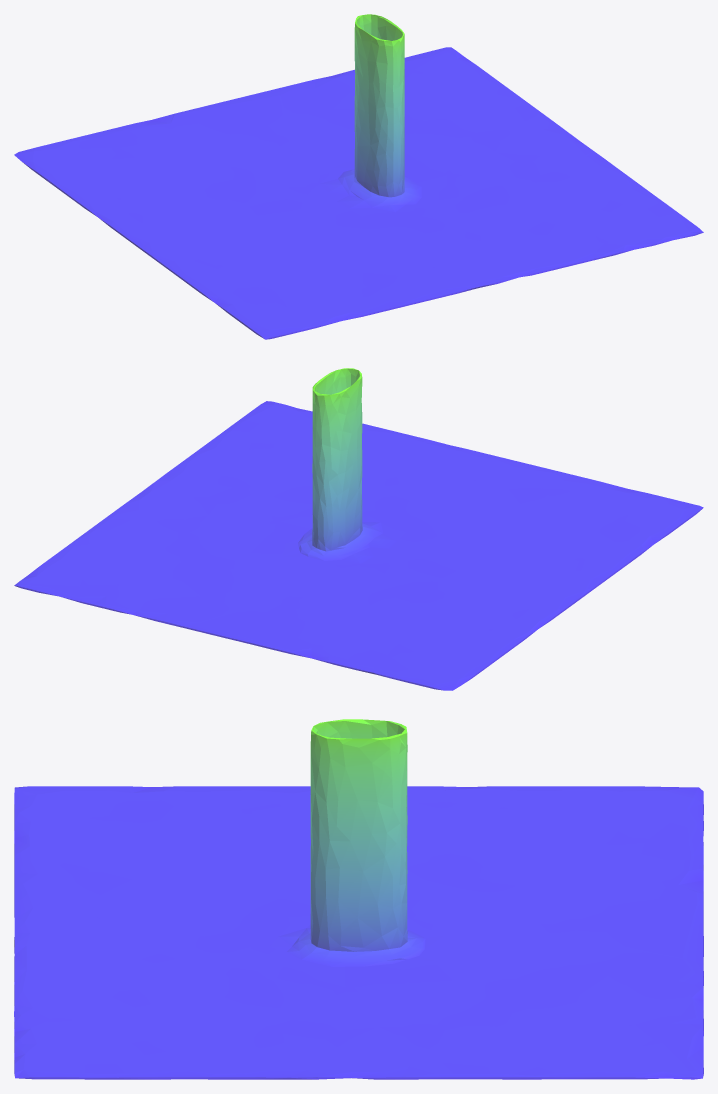
Rendered from 129_cyb_laser_gradient_fish_scales_2916_2026_10_03_bed5c8.glb.
3 views of the same model, one above another, from view 1: azimuth 30°, elevation 25°; view 2: azimuth 150°, elevation 25°; view 3: azimuth 270°, elevation 25° (orthographic). The views are drawn at different scales.
Parts seen in each view (by area): view 1: geometry_0; view 2: geometry_0; view 3: geometry_0.
Boxes of the visible parts, left/top/right/bottom form: geometry_0: left=14, top=14, right=703, bottom=339; geometry_0: left=14, top=368, right=703, bottom=690; geometry_0: left=14, top=719, right=703, bottom=1079.
Size of the model in its own units: 1 by 0.3524 by 1.
